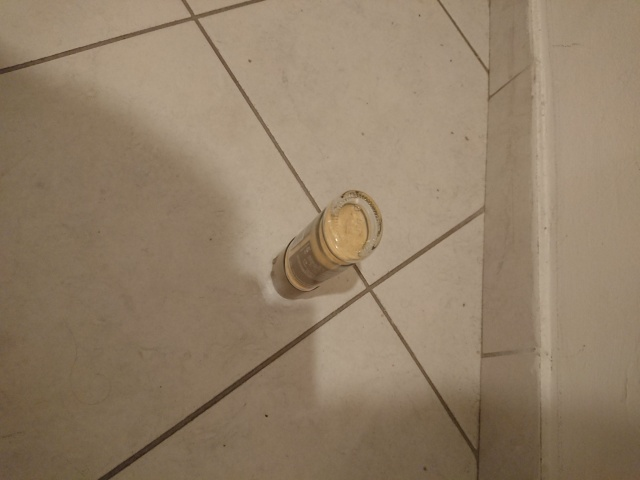Kotanyi Garlic Granules 70g: (268, 186, 386, 302)
